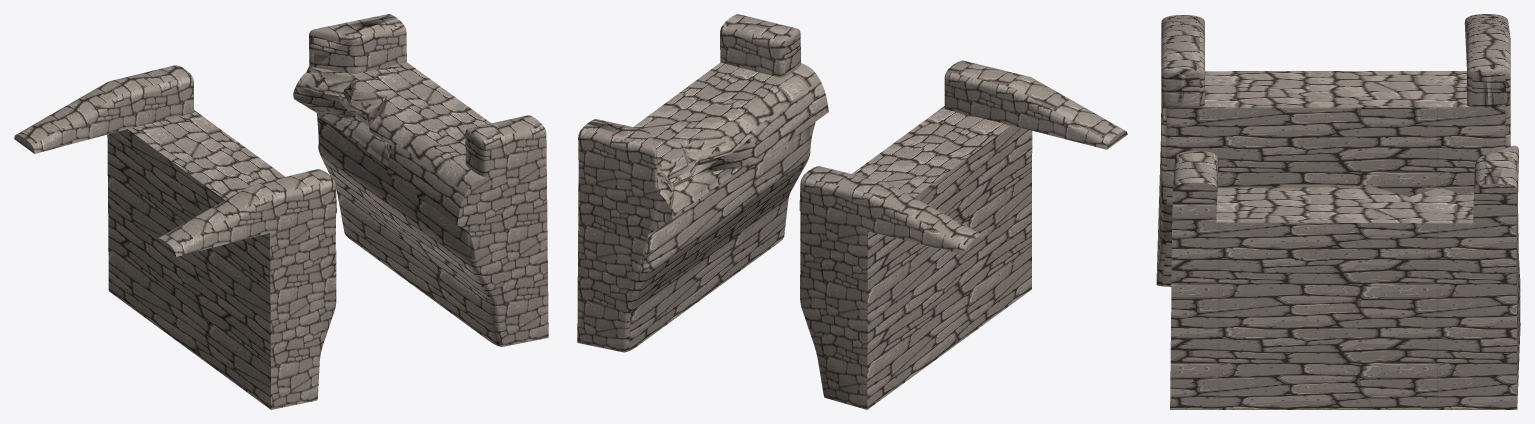
File: Puente_Piedra_Roto_2_Texturav2.FBX
3 views of the same model, side by side, from view 1: azimuth 30°, elevation 25°; view 2: azimuth 150°, elevation 25°; view 3: azimuth 270°, elevation 25° (orthographic). The views are drawn at different scales.
Visible parts, largest first — view 1: Puente_Piedra1; view 2: Puente_Piedra1; view 3: Puente_Piedra1.
Part boxes in pixels (box(x1,y1,x2,y2)): Puente_Piedra1: box(14, 14, 548, 409); Puente_Piedra1: box(577, 14, 1127, 409); Puente_Piedra1: box(1156, 14, 1520, 409).
Size of the model in its own units: 13.41 by 10.42 by 7.26.
